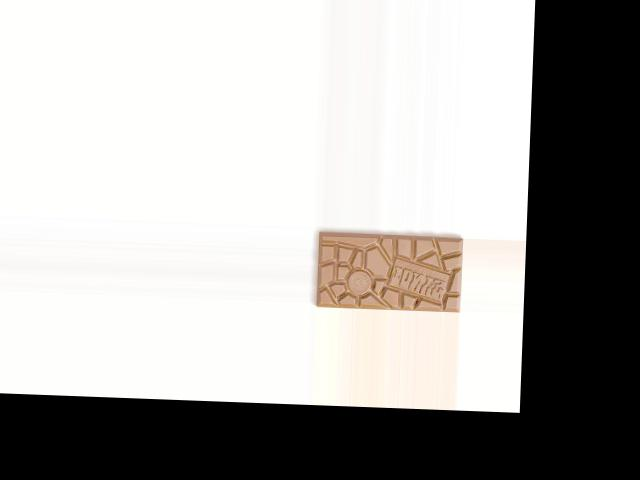chocolate: (314, 227, 464, 312)
